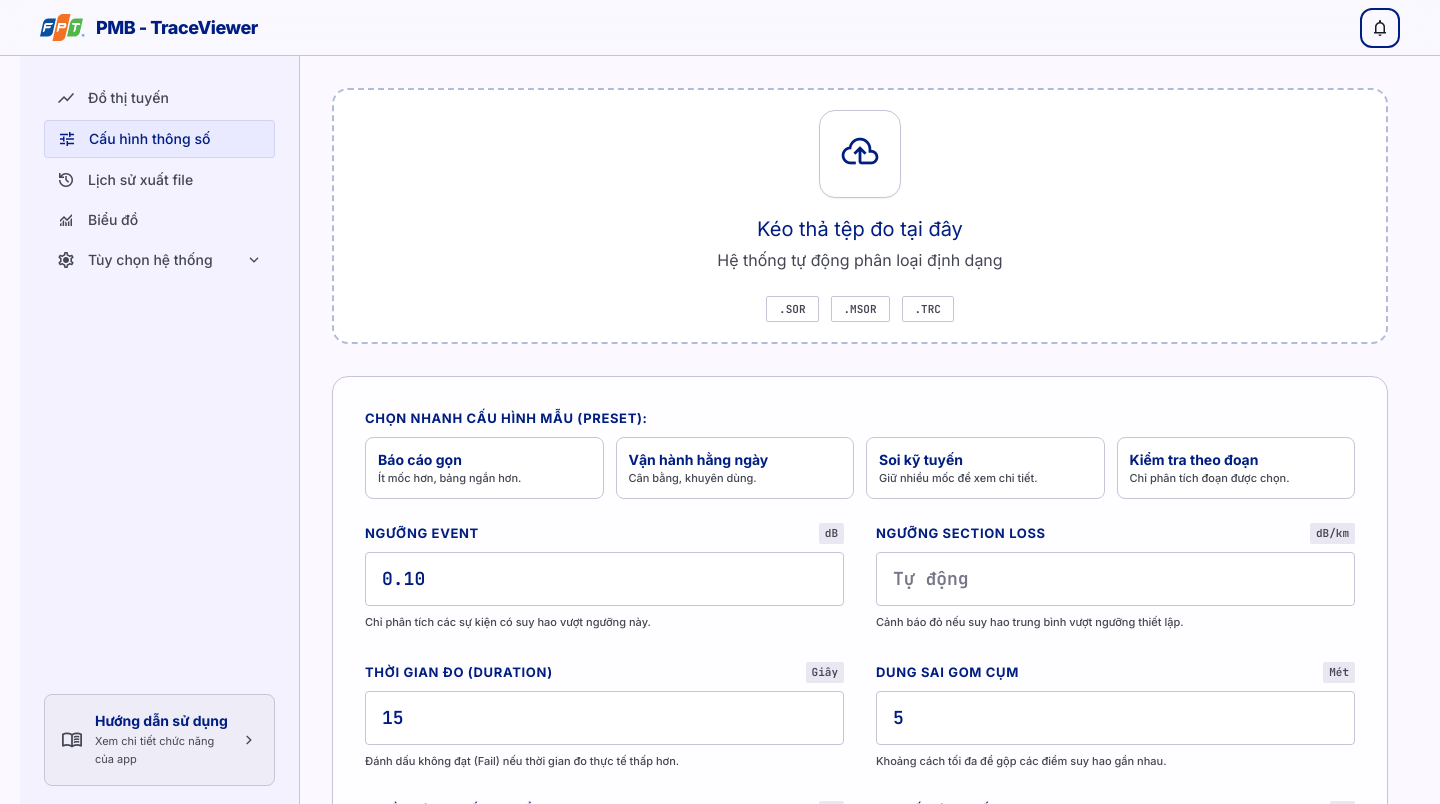
Test case: shows route graph navigation in its own header
Click the button "Đồ thị tuyến" at (160, 98), box [44, 80, 275, 116]
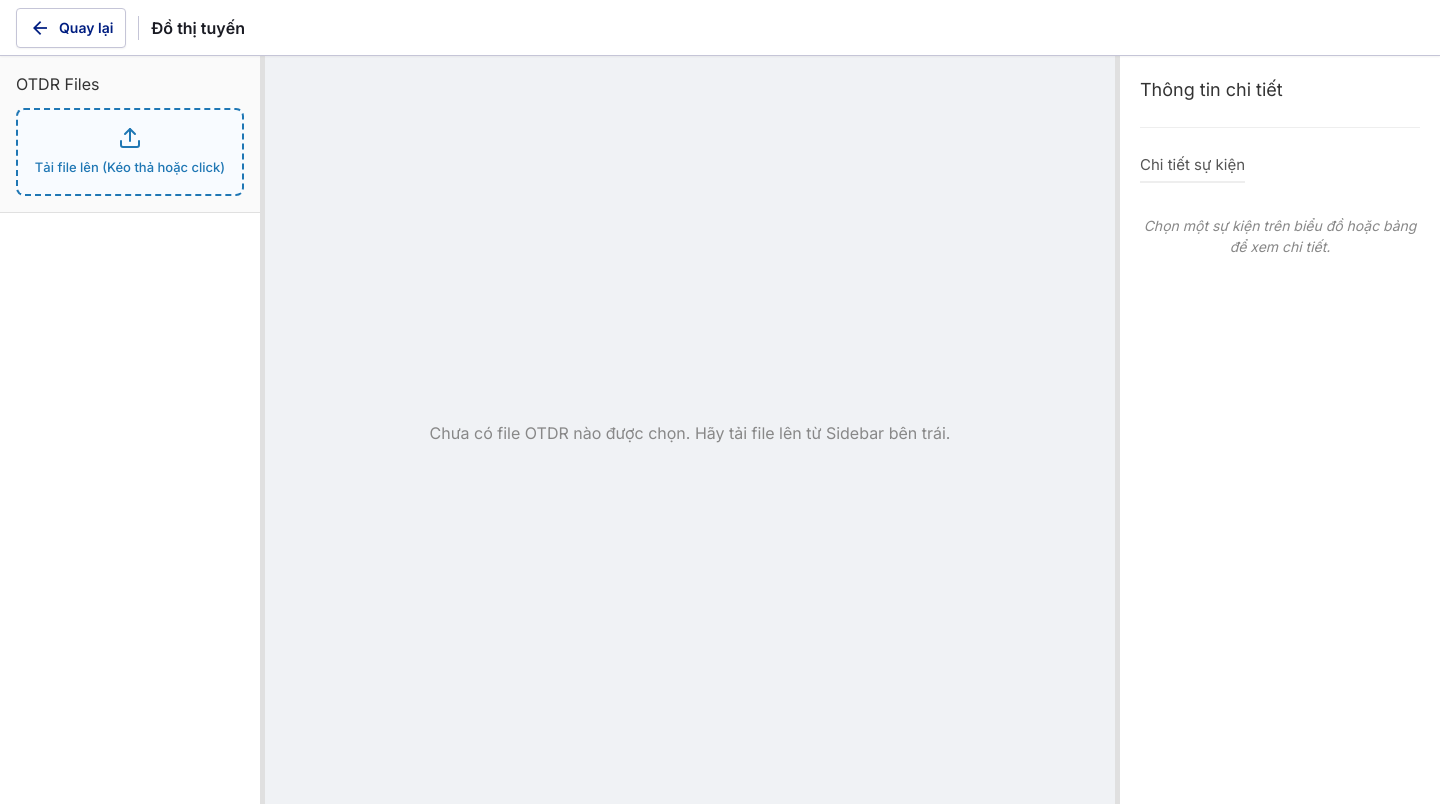
Check: the heading "Đồ thị tuyến" is shown, box [151, 16, 245, 40]
Check: the button with aria-label "Trở về Menu" is shown, box [16, 8, 126, 48]
